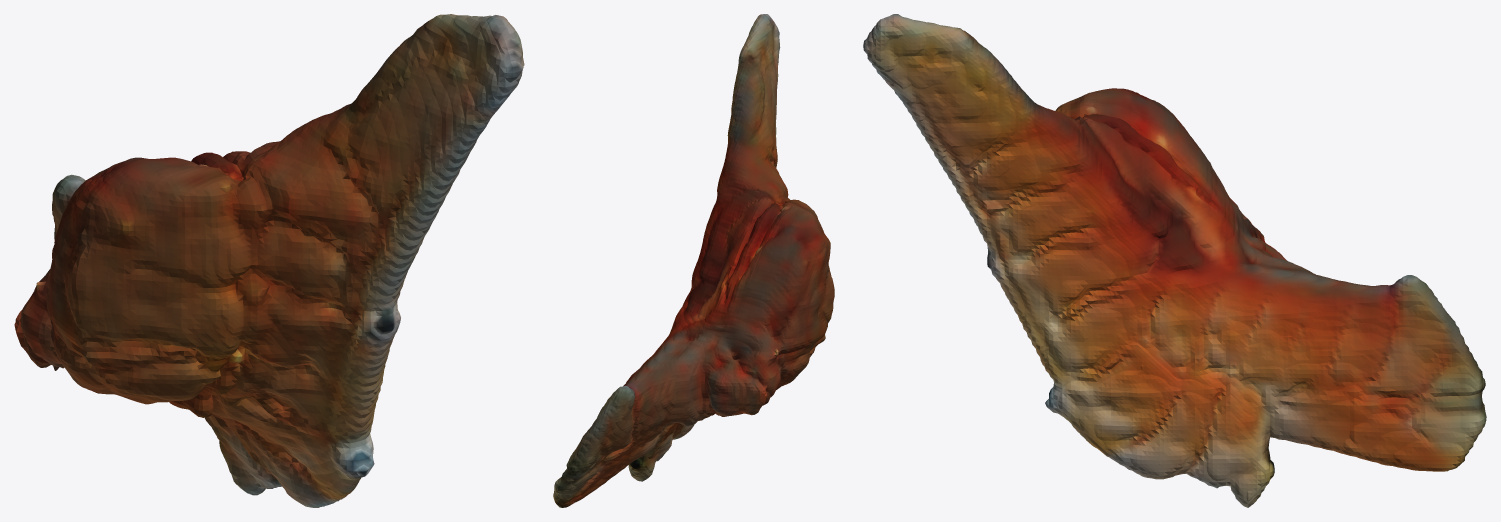
3 renders of one model, left to right at view 1: azimuth 30°, elevation 25°; view 2: azimuth 150°, elevation 25°; view 3: azimuth 270°, elevation 25°, orthographic. The views are drawn at different scales.
Bounding box in the file's own units: 0.3982 × 0.8444 × 0.9603.
